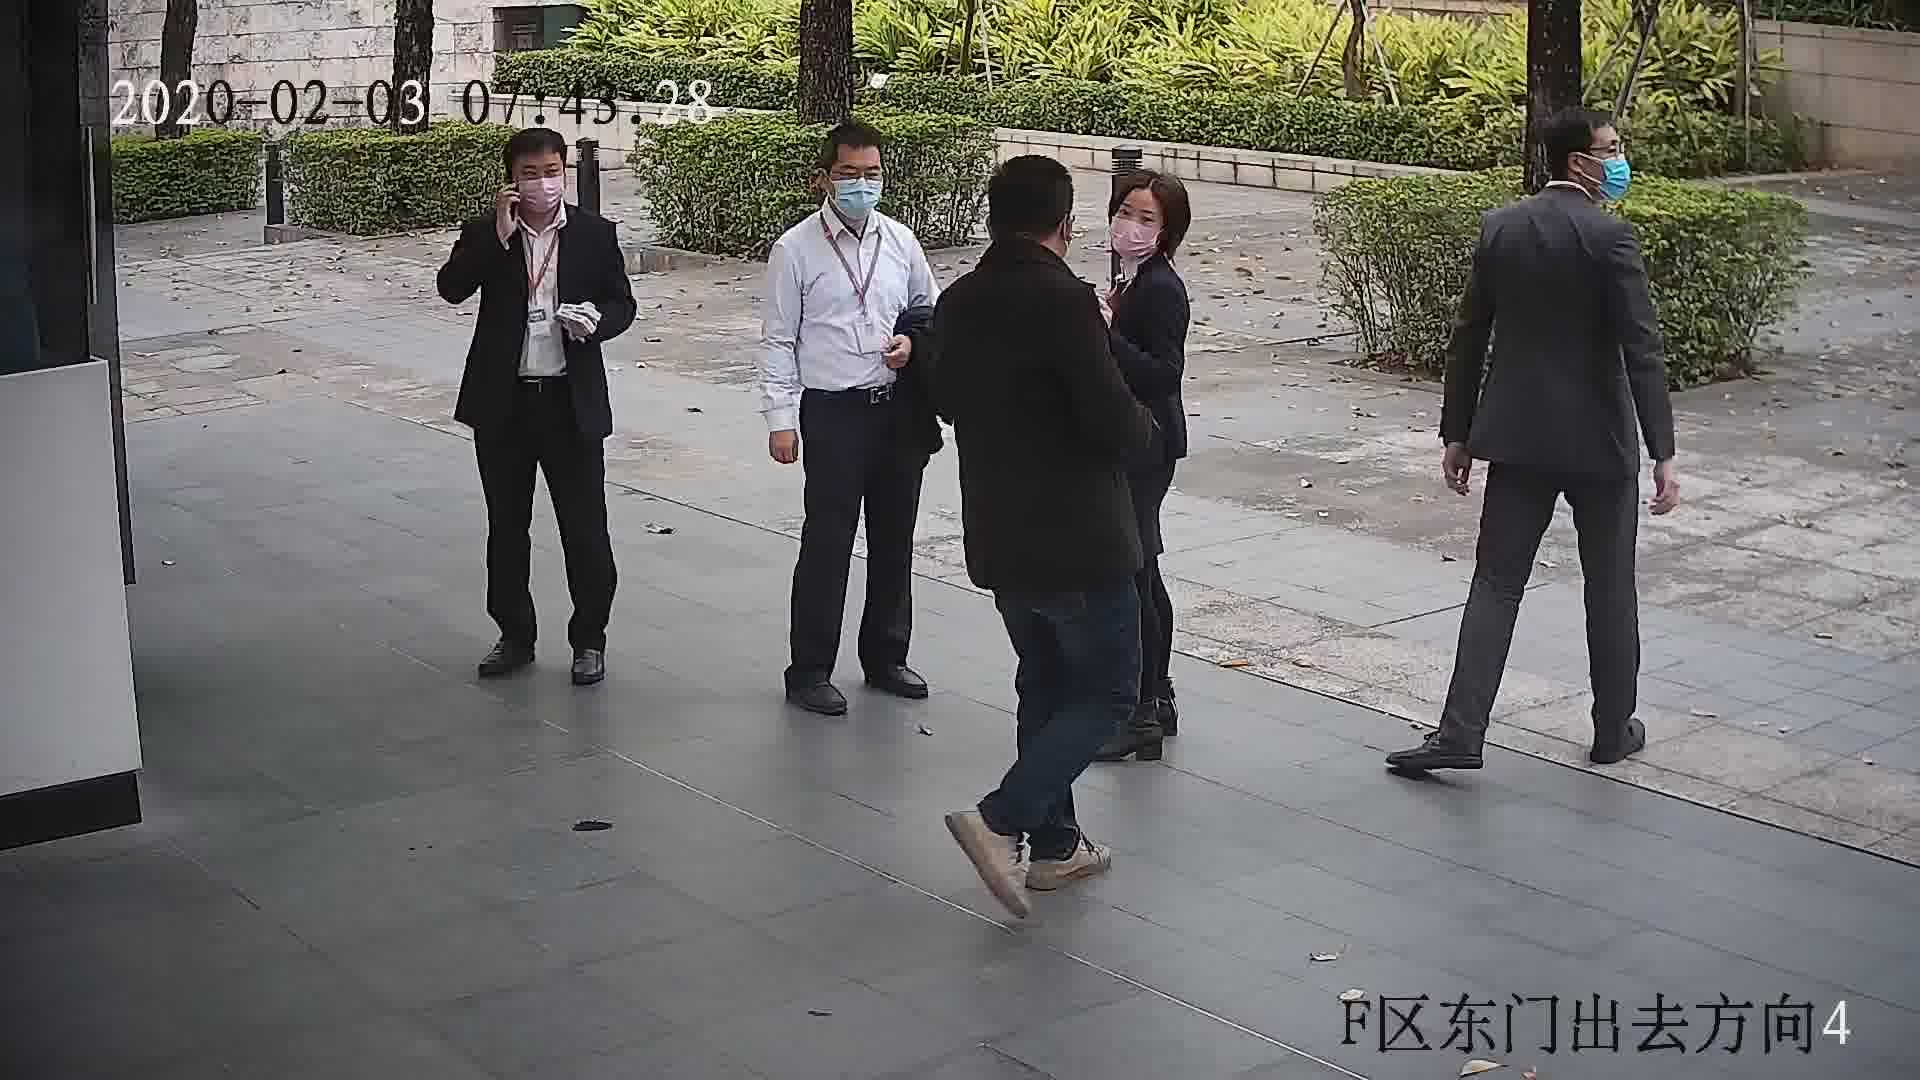face: (1106, 187, 1176, 257), (1580, 124, 1637, 200), (501, 151, 567, 216), (830, 145, 882, 220)
mask: (830, 176, 884, 222), (1105, 214, 1160, 257), (1594, 152, 1633, 205), (514, 177, 568, 211)
person: (946, 155, 1096, 316), (1481, 106, 1640, 251), (774, 122, 926, 270), (458, 124, 618, 256), (1094, 171, 1196, 310)
